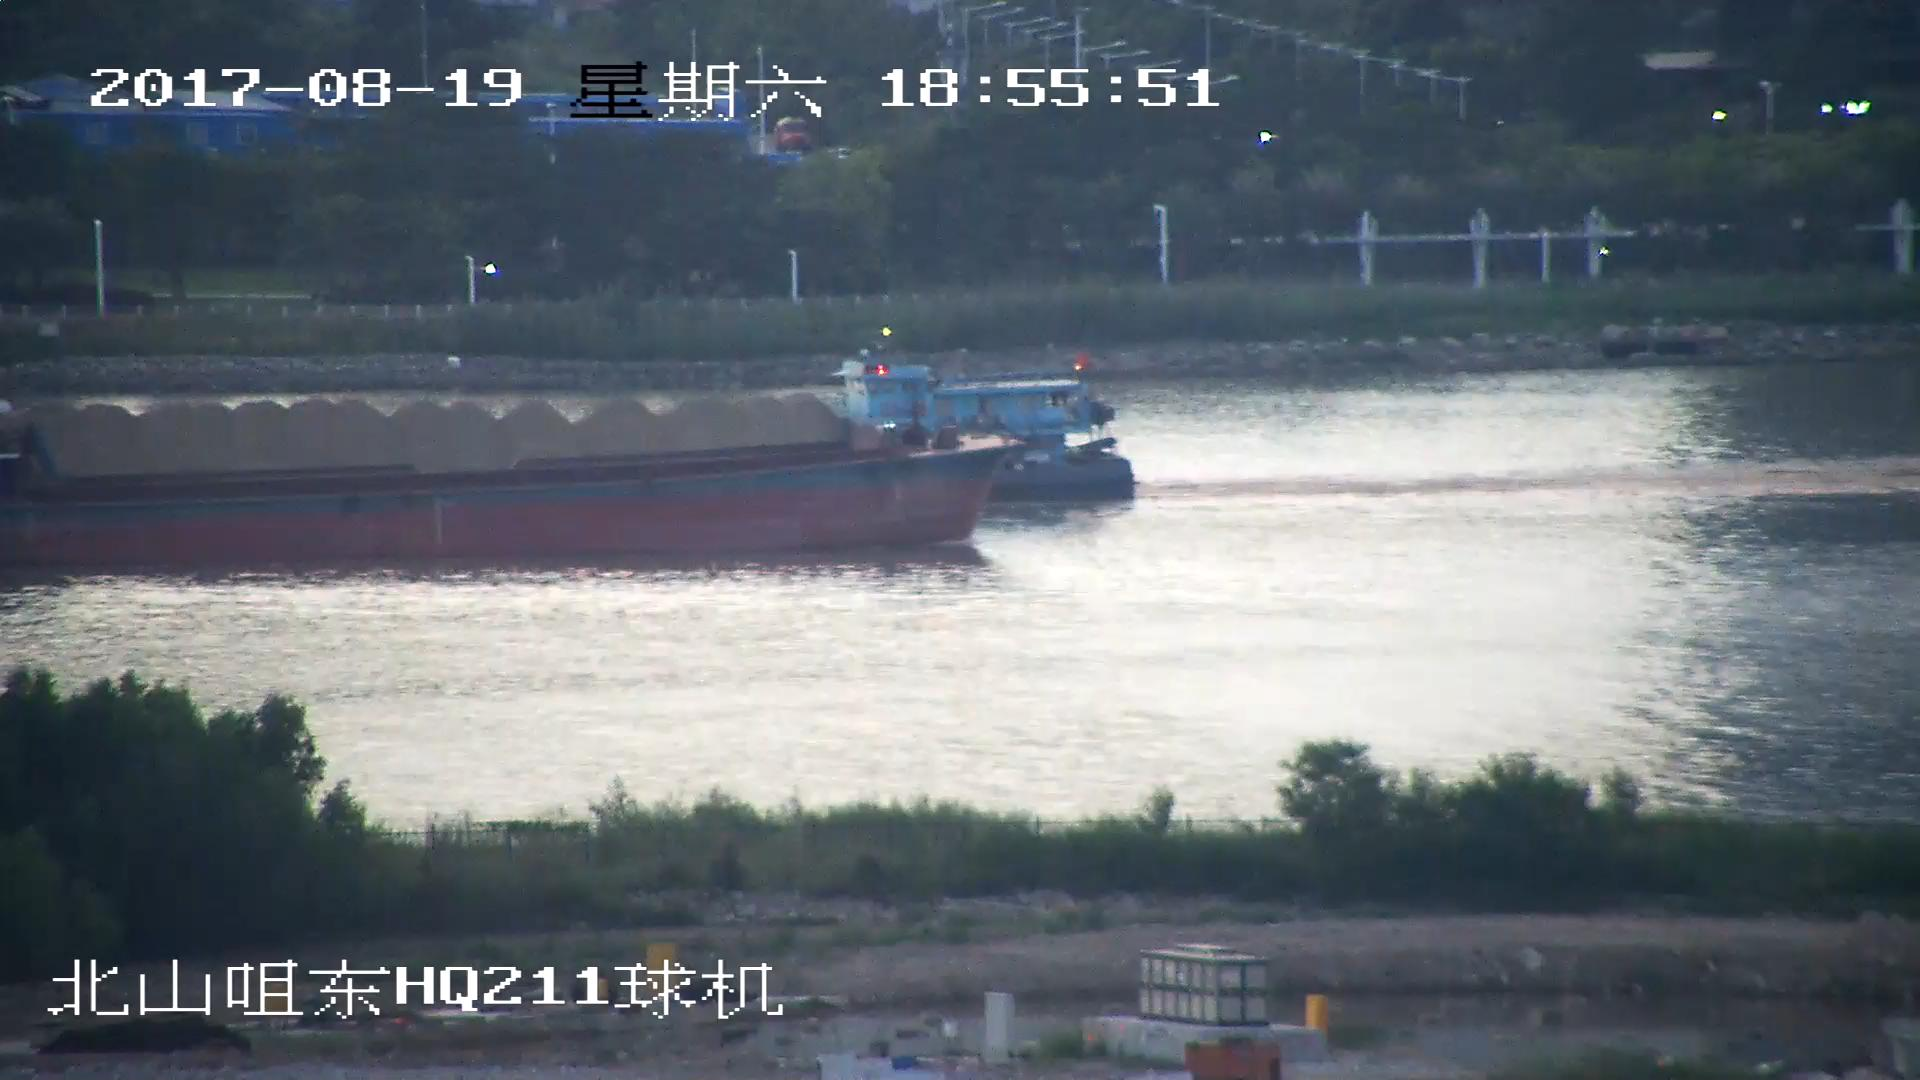bulk cargo carrier: (1, 426, 1015, 574)
ore carrier: (1, 360, 1127, 510)
